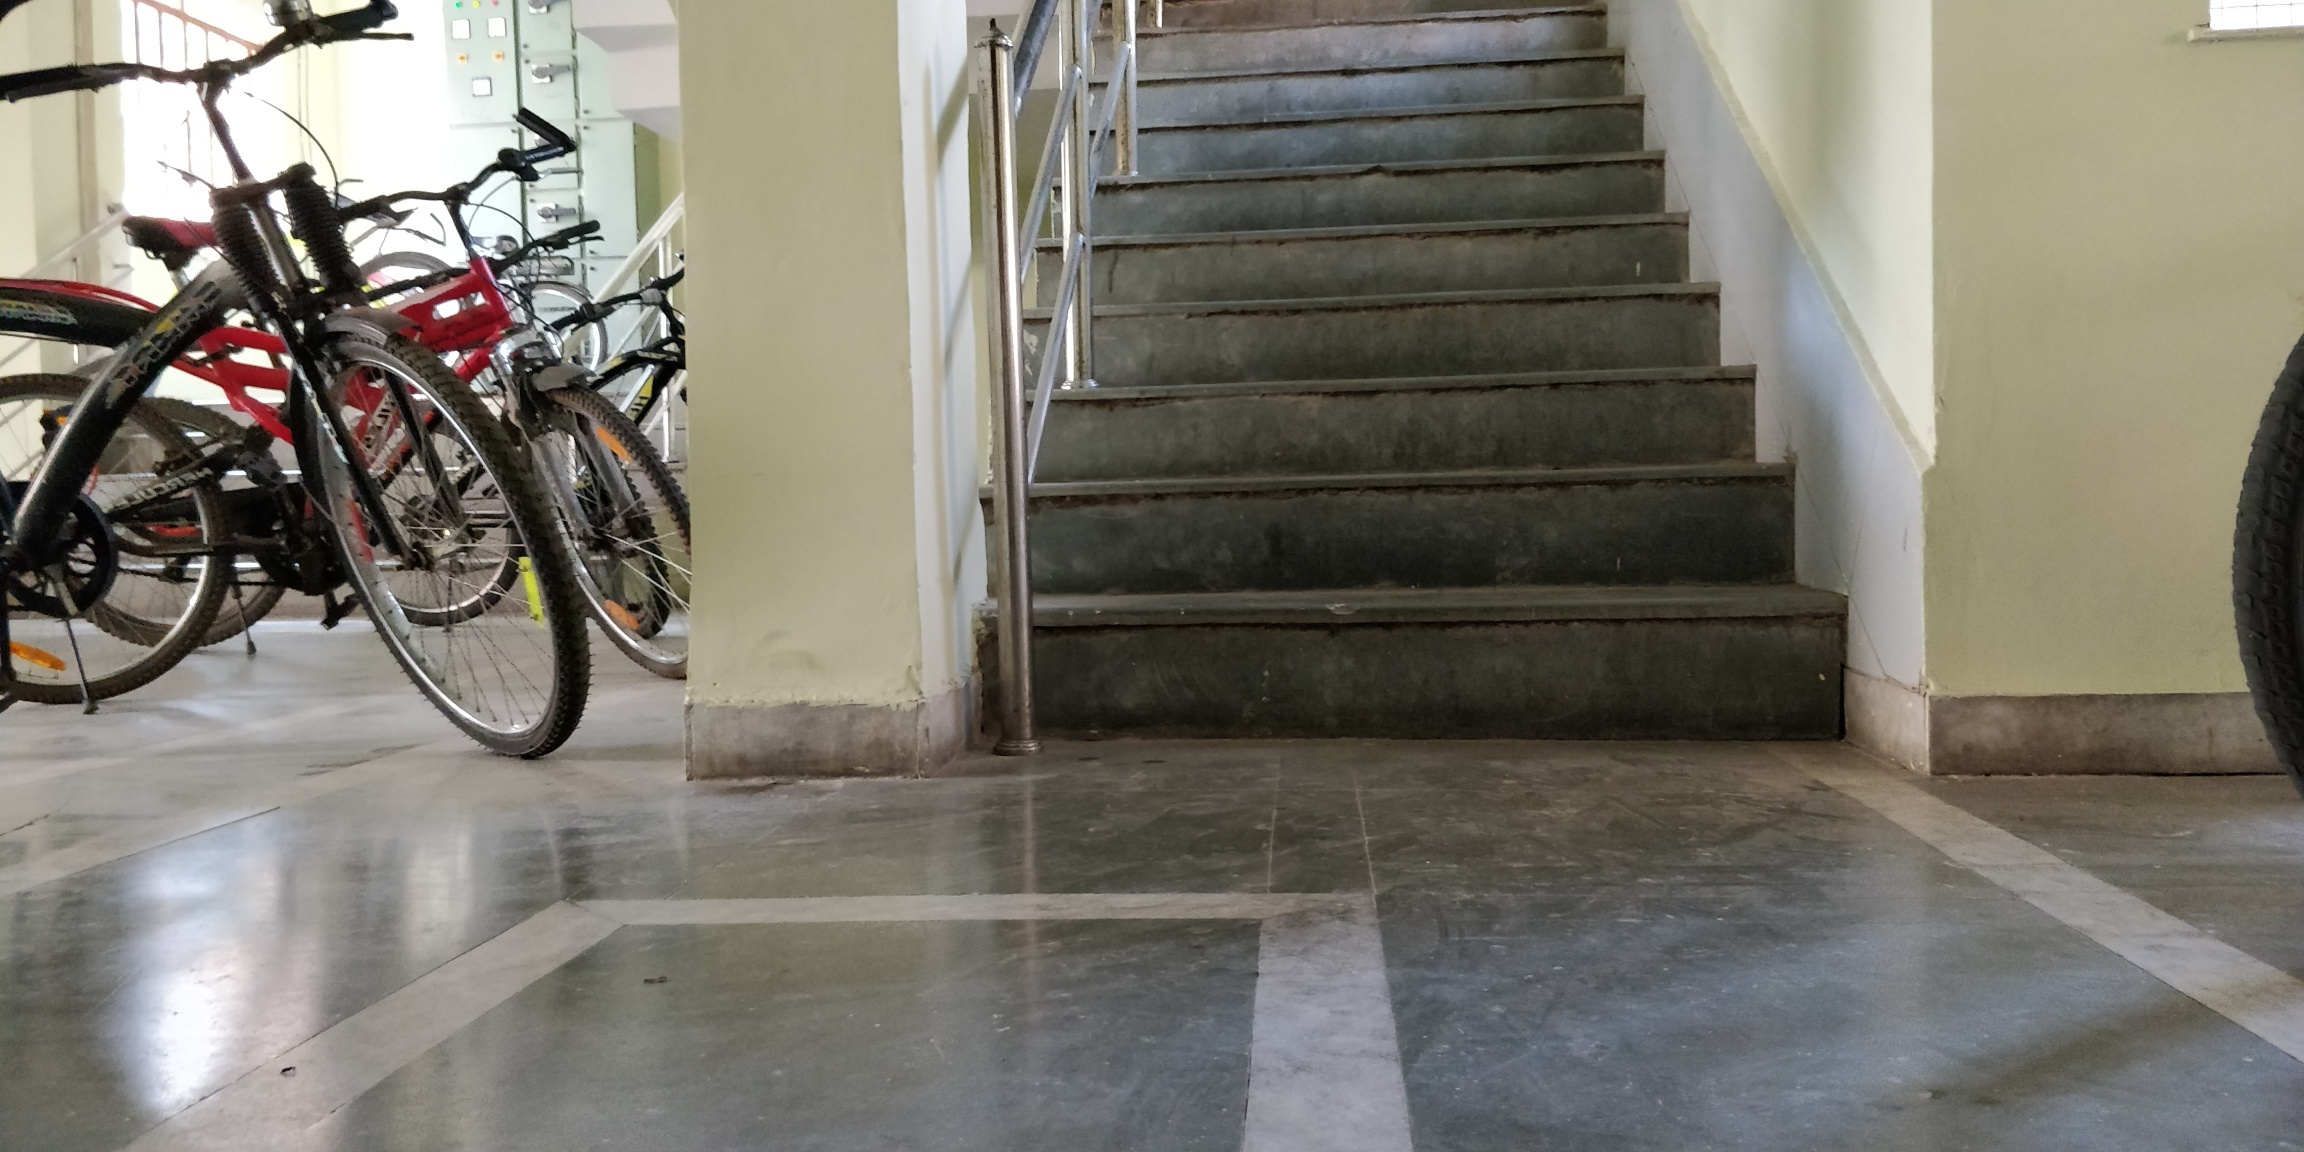stairs_up: (1018, 22, 1837, 746)
